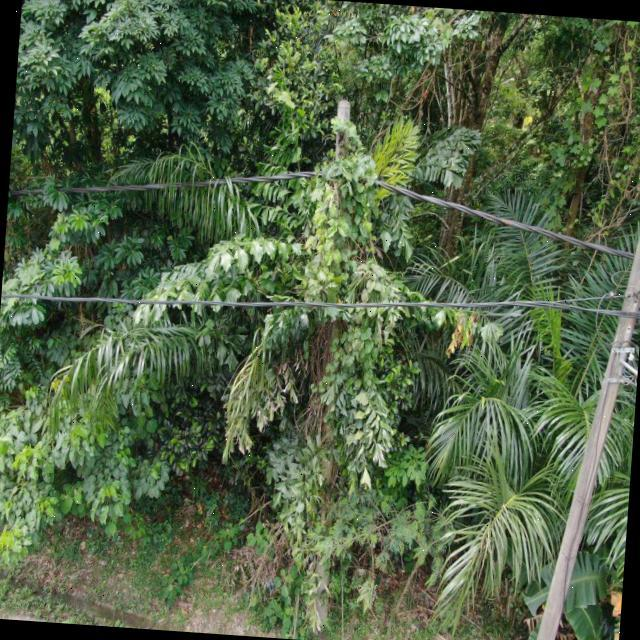critical vegetation: (272, 102, 374, 629)
